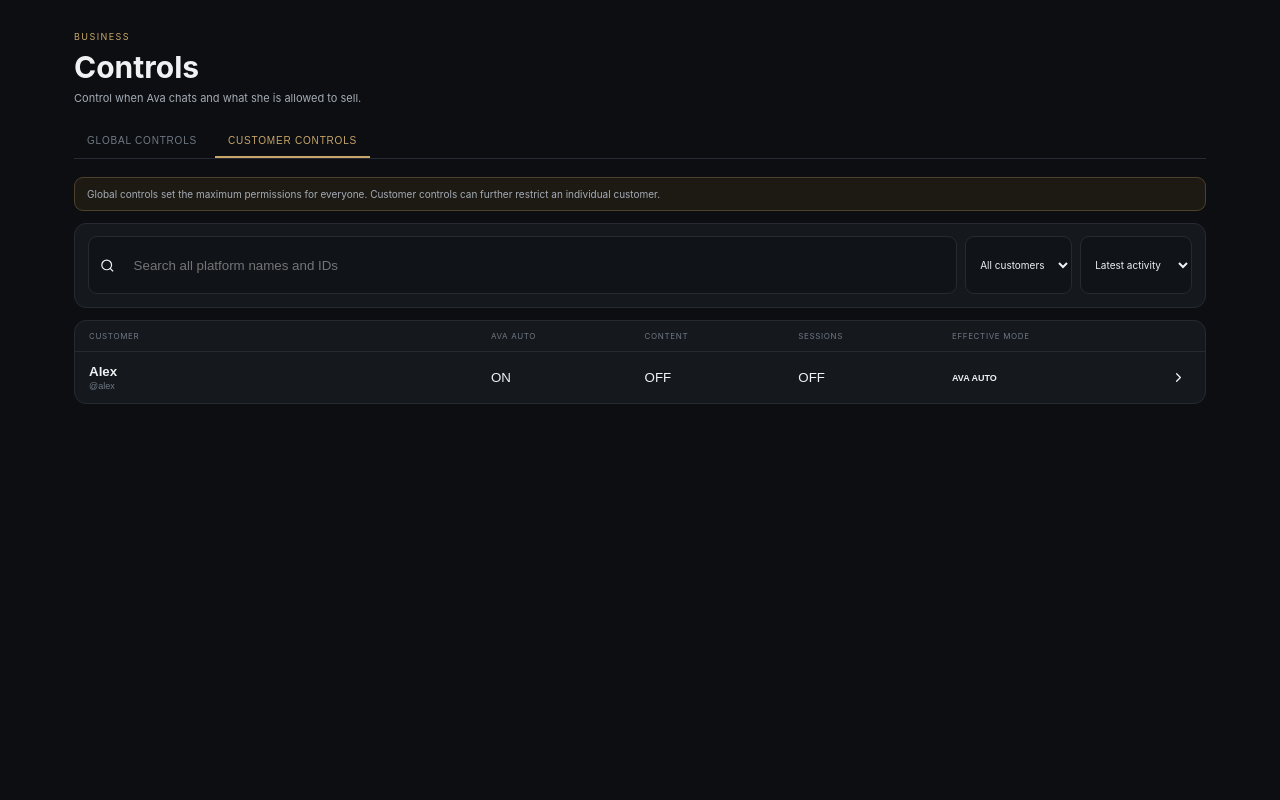
Test: Business Controls › distinguishes customer configuration from a global ceiling
Click the row "Alex @alex ON OFF OFF AVA AUTO". click: (974, 378)
box: [75,352,1205,403]
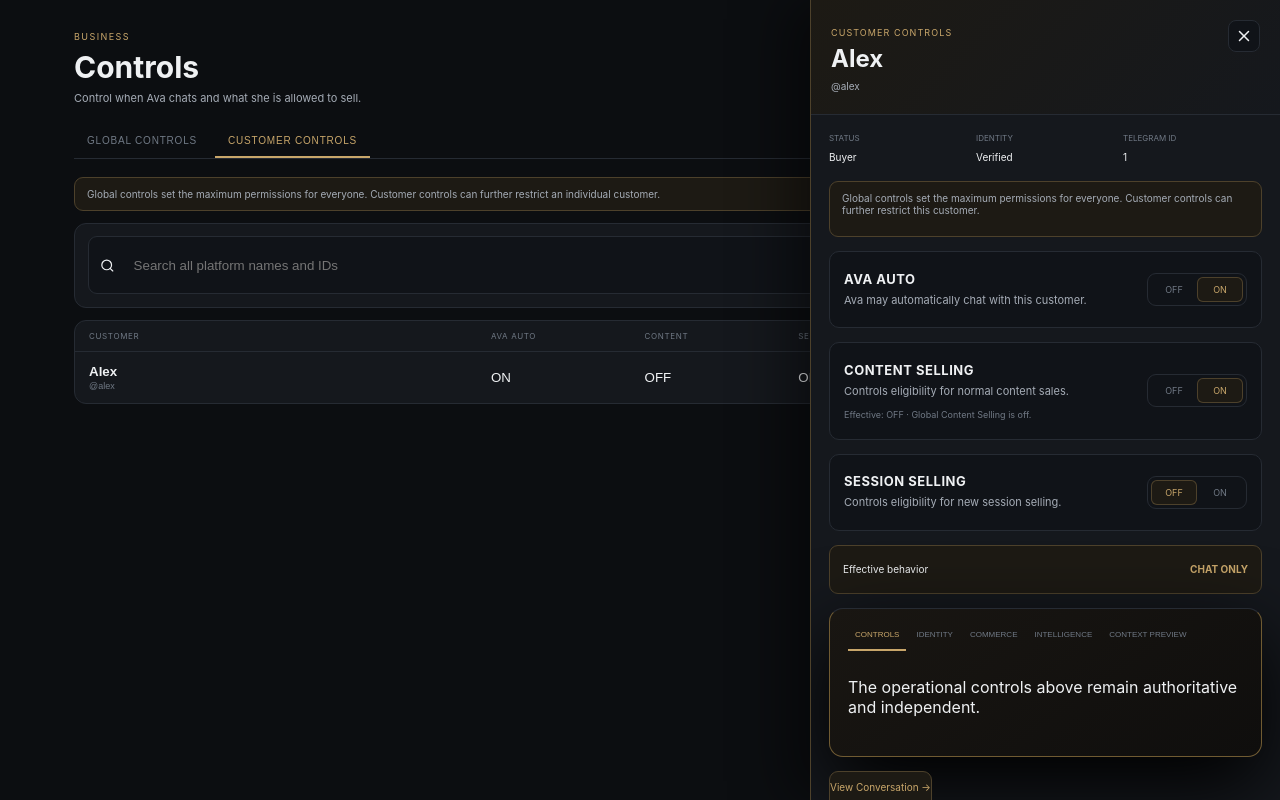
expect the text "Effective: OFF · Global Content Selling is off." is shown: met, box [844,409,1031,420]
expect the text "CHAT ONLY" is shown: met, box [1190,563,1248,575]
